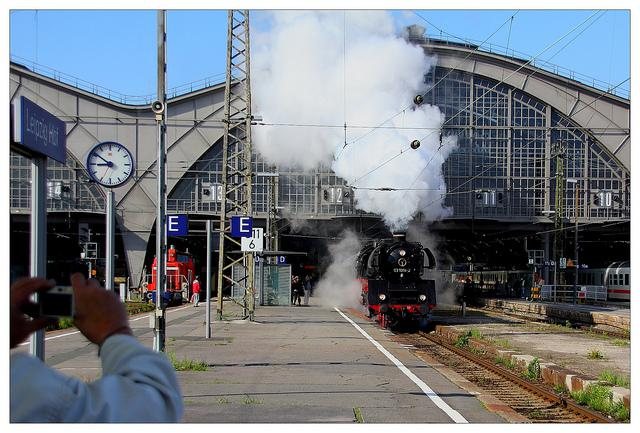Train: (358, 233, 435, 333), (426, 267, 534, 300), (148, 248, 195, 307), (577, 268, 630, 301)
